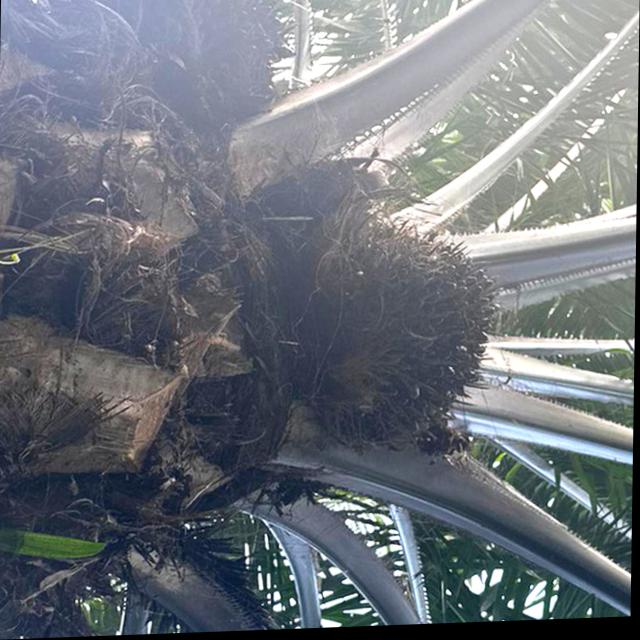unripe: (313, 210, 505, 458)
